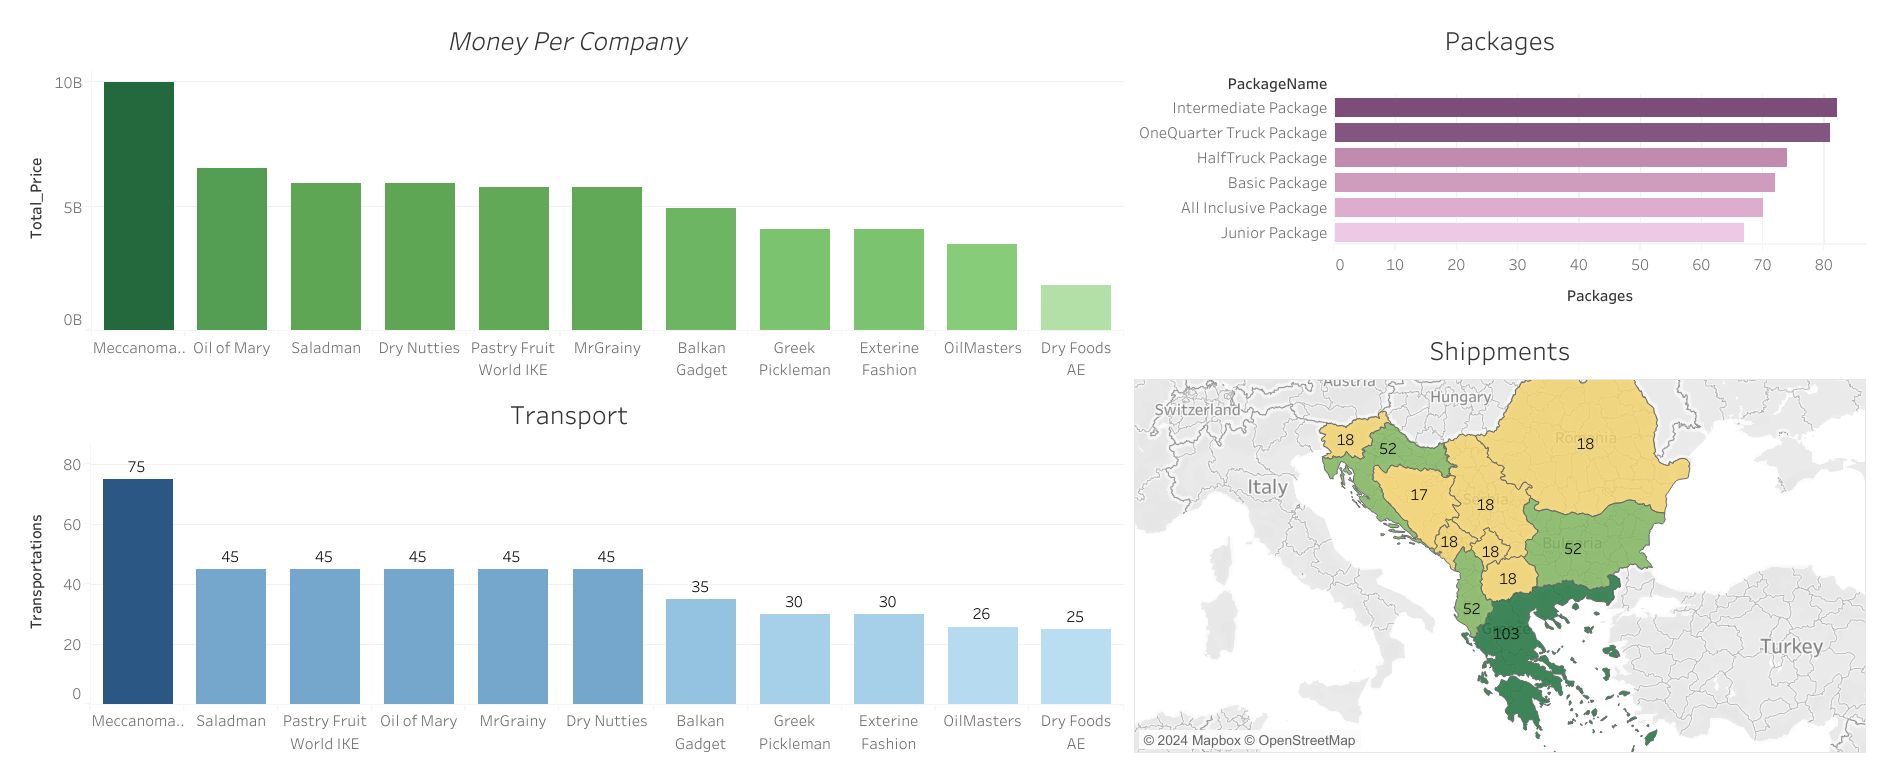

This screenshot's page, from the dashboard's own definition file:
{"tool":"powerbi","page":{"name":"Page 1","canvas":[1280,720],"ordinal":0},"visuals":[{"type":"columnChart","title":"Total Price by Supplier","fields":{"Category":["MoneyCompany.SupplierName"],"Y":["Sum(MoneyCompany.Total_Price)"]},"box":[0,0,690.2,343.1],"z":0},{"type":"donutChart","title":"Packages","fields":{"Category":["Packages.PackageName"],"Y":["Sum(Packages.Packages)"]},"box":[701.2,0,579.1,343.1],"z":1000},{"type":"clusteredBarChart","title":"Sum of Transportations ","fields":{"Category":["Transport.SupplierName"],"Y":["Sum(Transport.Transportations)"]},"box":[0,359.5,575,360.9],"z":2000},{"type":"map","title":"Shipments By Country","fields":{"Category":["Shipments.Country"],"Series":["Shipments.Count Hierarchy.Count"],"Size":["Sum(Shipments.Count)"]},"box":[574.5,360.6,705.3,359.4],"z":3000}]}

Visuals, with their boxes on the page's 1280x720 design canvas (x1, y1, x2, y2). These are canvas units, not pixel positions in the 1880x768 screenshot, which may show the page scaled, cropped or inside an application window:
"Total Price by Supplier" columnChart: left=0, top=0, right=690, bottom=343
"Packages" donutChart: left=701, top=0, right=1280, bottom=343
"Sum of Transportations " clusteredBarChart: left=0, top=360, right=575, bottom=720
"Shipments By Country" map: left=574, top=361, right=1280, bottom=720
